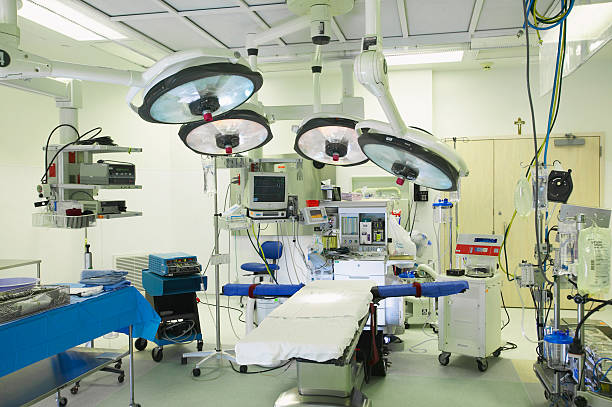bedside_monitor: (246, 172, 289, 213), (306, 204, 328, 224)
electrosurgical_unit: (147, 253, 206, 276)
iv_pole: (542, 203, 609, 407), (516, 158, 559, 363), (197, 155, 235, 366)
operating_bed: (235, 276, 413, 407)
surgical_instrument: (1, 274, 160, 407)
surgical_light: (139, 47, 265, 124), (356, 111, 468, 194), (179, 103, 272, 157), (294, 113, 369, 169)
